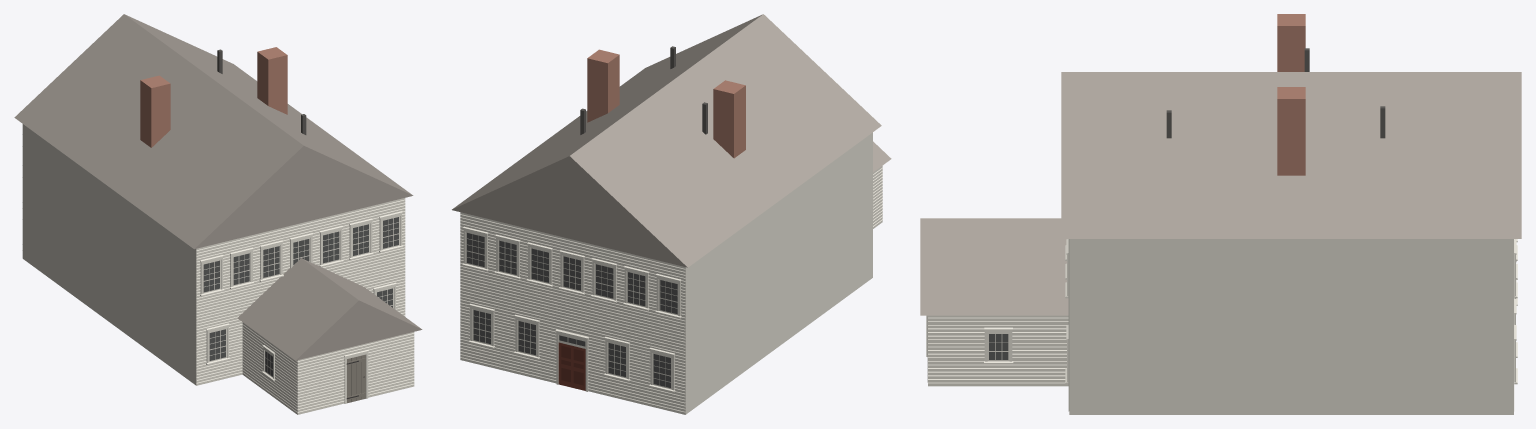
Rendered from recon_1835_core_h3_027__inferred_1835.glb.
The picture shows the model from 3 angles, left to right: view 1: azimuth 30°, elevation 25°; view 2: azimuth 150°, elevation 25°; view 3: azimuth 270°, elevation 25°; orthographic projection. The views are drawn at different scales.
Parts seen in each view (by area): view 1: recon_1835_core_h3_027__inferred_1835; view 2: recon_1835_core_h3_027__inferred_1835; view 3: recon_1835_core_h3_027__inferred_1835.
Part boxes in pixels (x1,y1,x2,y2): recon_1835_core_h3_027__inferred_1835: [14, 14, 422, 414]; recon_1835_core_h3_027__inferred_1835: [452, 14, 891, 414]; recon_1835_core_h3_027__inferred_1835: [920, 14, 1521, 414].
Bounding box in the file's own units: 10.34 × 10.32 × 19.19.
